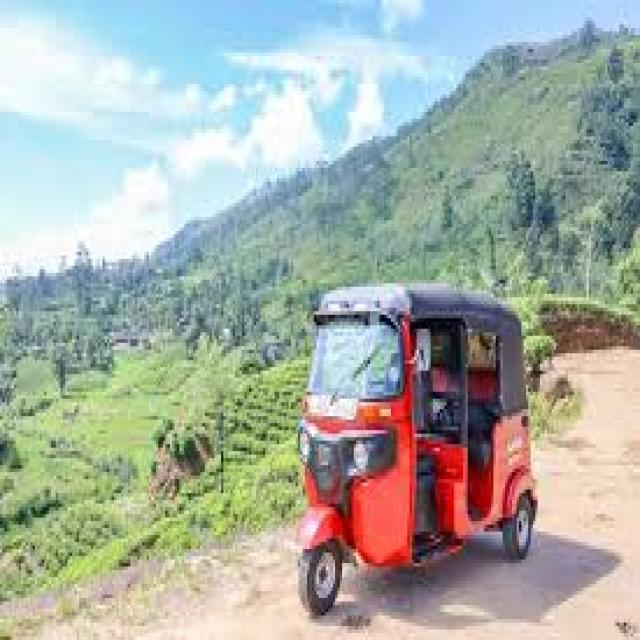tuktuk: (237, 143, 591, 630)
